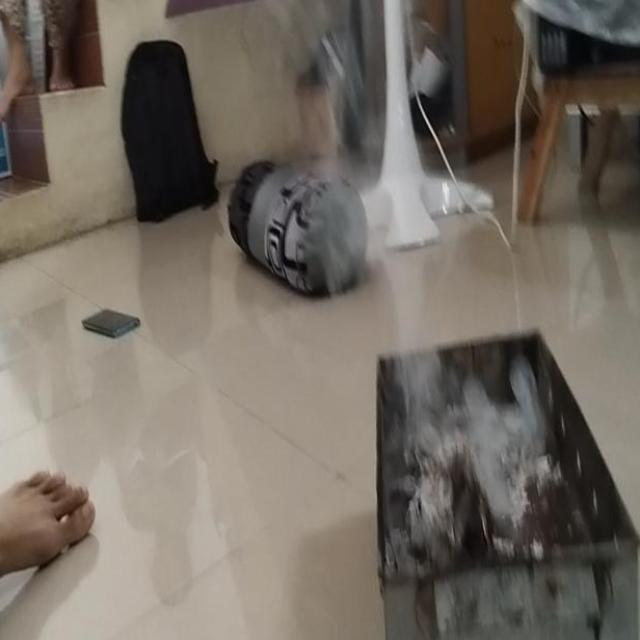fire: (302, 109, 468, 447), (472, 374, 534, 504)
